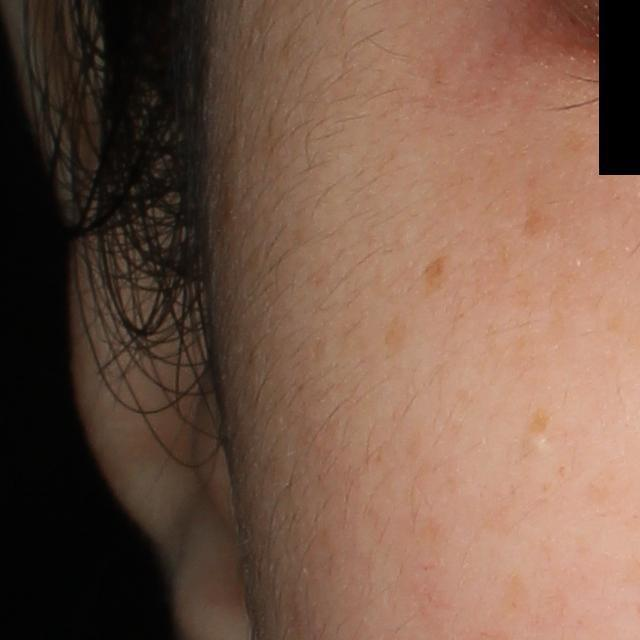comedo: (522, 435, 547, 456)
melasma: (522, 172, 587, 247), (523, 394, 558, 437), (383, 312, 410, 366), (422, 248, 446, 298)
